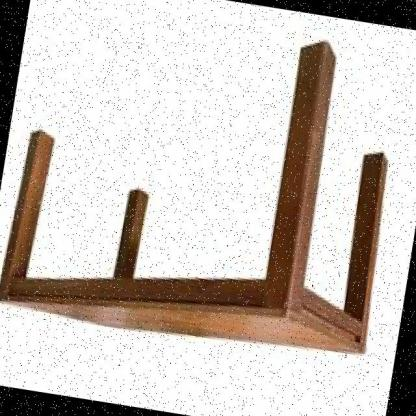Table: (0, 0, 416, 387)
